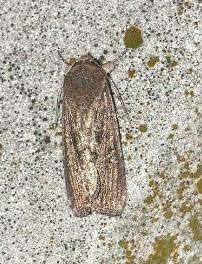army worm adult: (53, 53, 134, 231)
